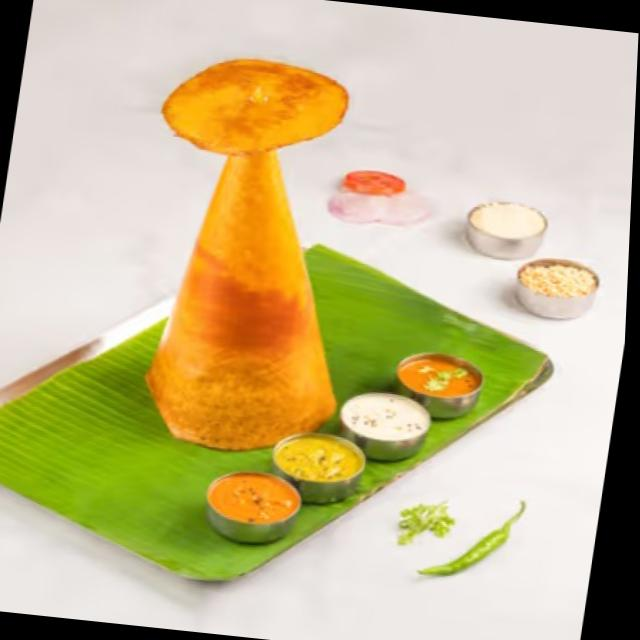DOSA: (145, 60, 346, 449)
